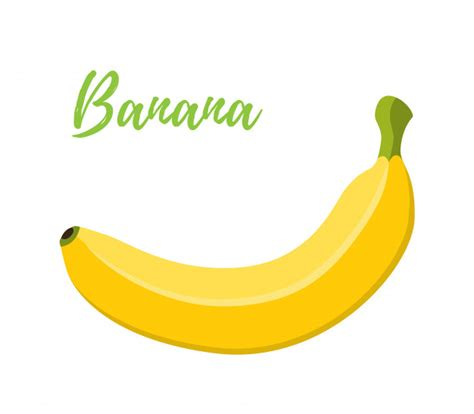banana: (56, 150, 419, 357)
